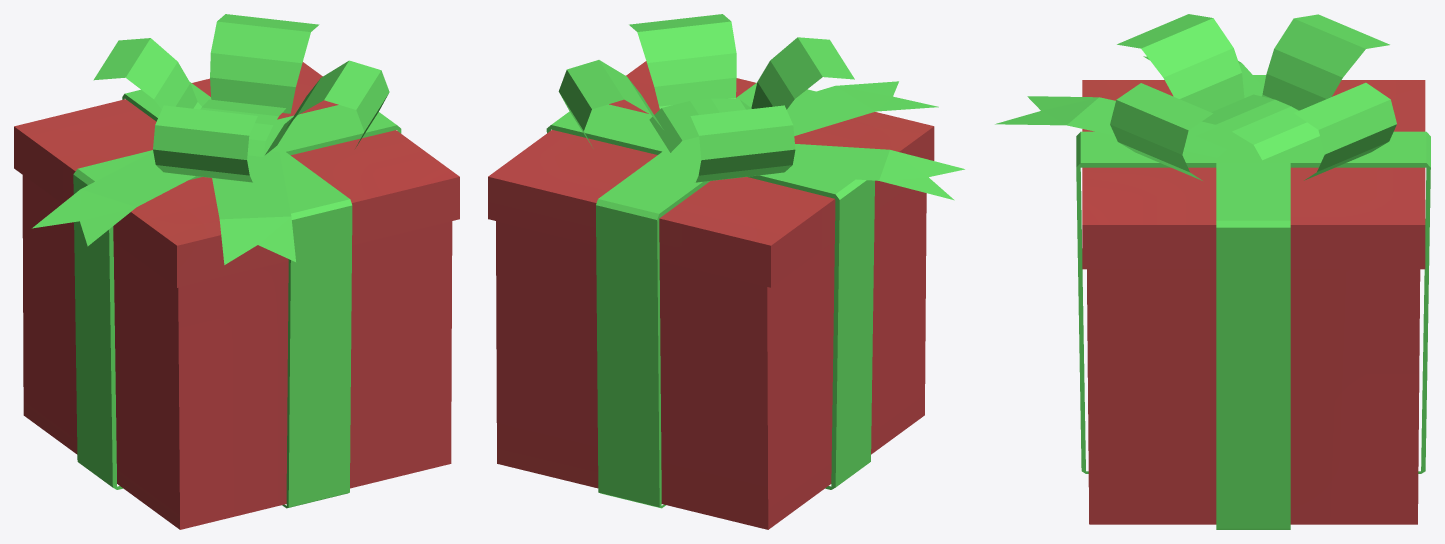
Rendered from gift_bow.glb.
3 views of the same model, side by side, from view 1: azimuth 30°, elevation 25°; view 2: azimuth 150°, elevation 25°; view 3: azimuth 270°, elevation 25° (orthographic). The views are drawn at different scales.
Visible parts, largest first — view 1: Present; view 2: Present; view 3: Present.
Boxes of the visible parts, box(x1,y1,x2,y2) form: Present: box(14, 14, 459, 529); Present: box(488, 14, 964, 529); Present: box(995, 14, 1430, 529).
Size of the model in its own units: 0.4146 by 0.4 by 0.4021.
Materials: 1 (1 with a texture image).
